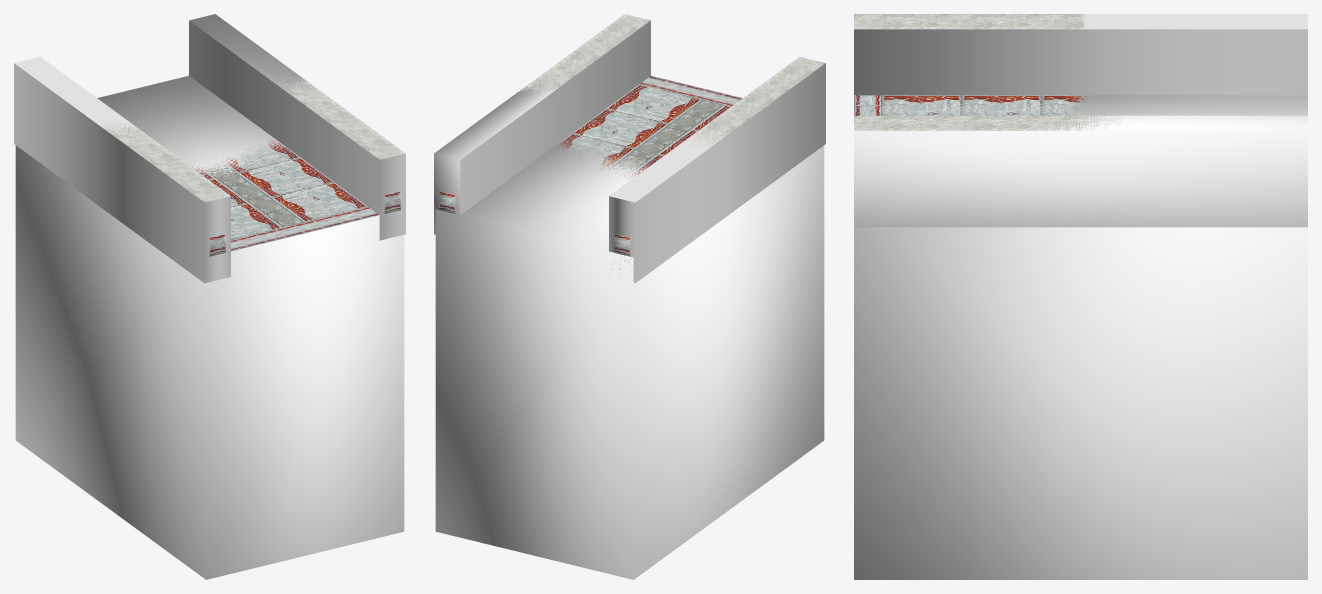
File: RisingPlatformLargeCombined.obj
The picture shows the model from 3 angles, left to right: view 1: azimuth 30°, elevation 25°; view 2: azimuth 150°, elevation 25°; view 3: azimuth 270°, elevation 25°; orthographic projection. The views are drawn at different scales.
Size of the model in its own units: 305 by 547 by 500.
Materials: 11 (11 with a texture image).
